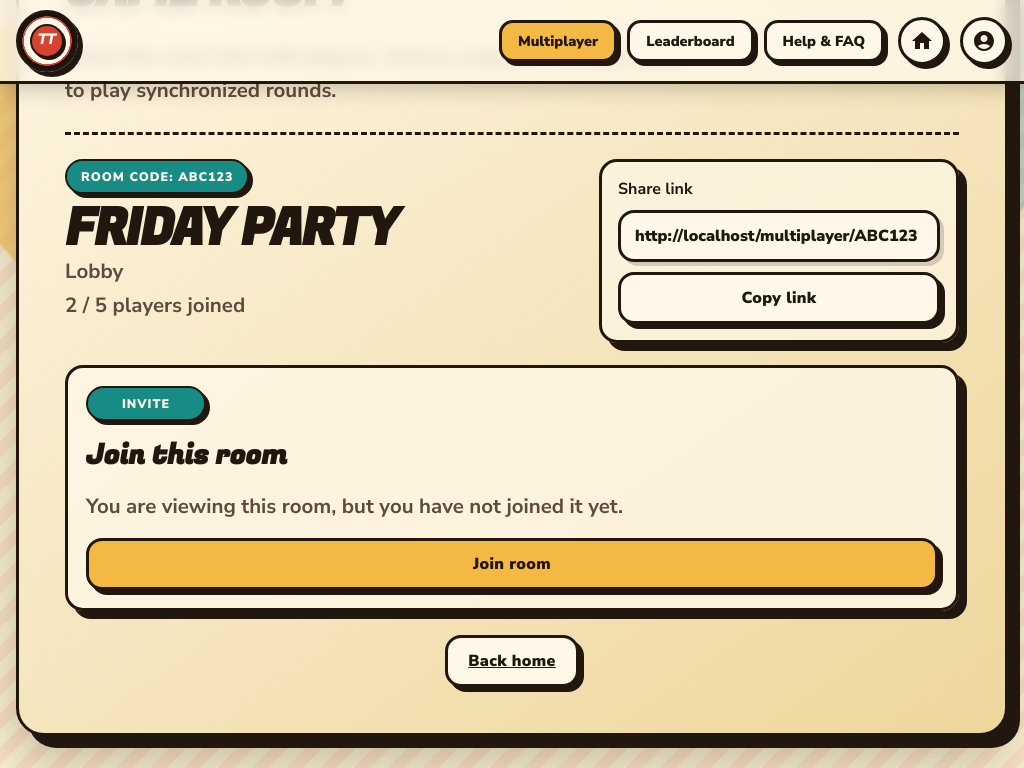
it: Multiplayer page › lets a viewer join an active room before host-only controls are shown
(page scrolled)
Expected: the text "You are viewing this room, but you have not joined it yet." is shown, [86, 492, 623, 520]
Click the button "Join room": (512, 564) [86, 538, 938, 590]
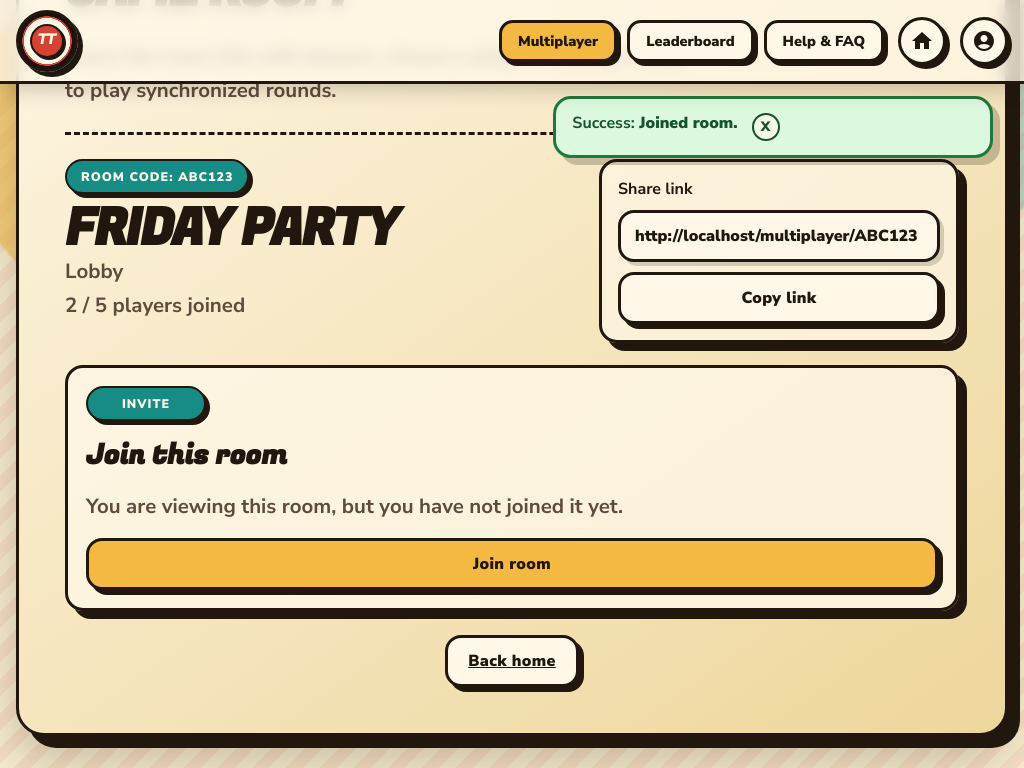
Expected: the text "Success: Joined room." is shown, [572, 113, 738, 135]
